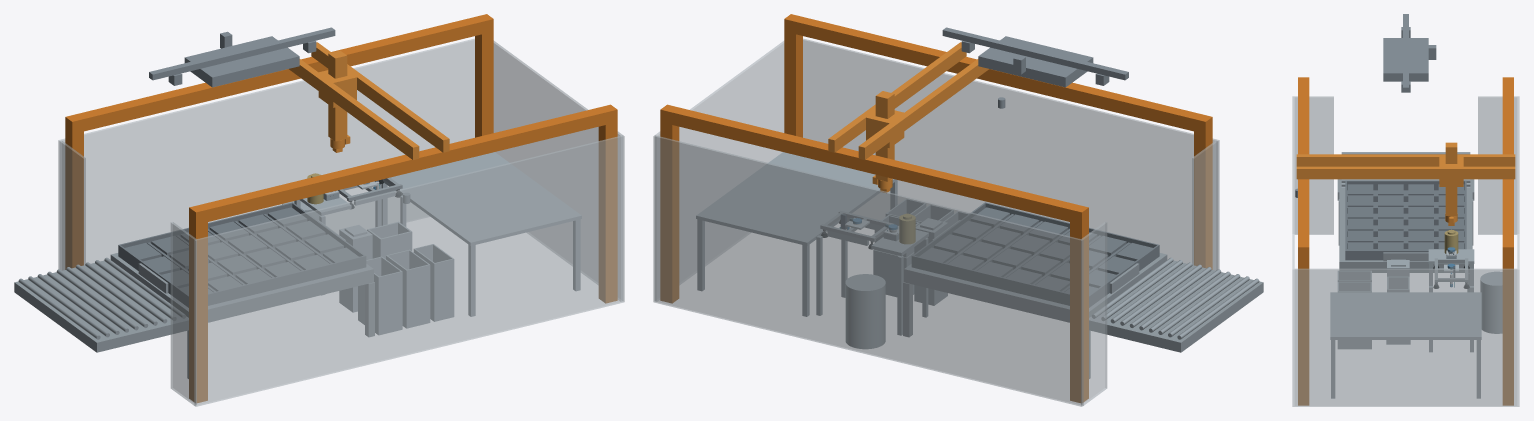
The model's file is LAYOUT_R03_tools_parked.glb.
3 renders of one model, left to right at view 1: azimuth 30°, elevation 25°; view 2: azimuth 150°, elevation 25°; view 3: azimuth 270°, elevation 25°, orthographic. The views are drawn at different scales.
Visible parts, largest first — view 1: 000_fence_safety_fence, 001_fence_safety_fence, 002_fence_safety_fence, 084_station_cover_table, 061_gantry_X_rail_beam, 062_gantry_X_rail_beam, 005_conveyor_intake_conveyor, 003_fence_safety_fence, 016_bench_heating_bench_coil_zone, 057_gantry_column, 059_gantry_column, 004_fence_safety_fence (+18 smaller); view 2: 001_fence_safety_fence, 000_fence_safety_fence, 002_fence_safety_fence, 084_station_cover_table, 062_gantry_X_rail_beam, 061_gantry_X_rail_beam, 005_conveyor_intake_conveyor, 004_fence_safety_fence, 016_bench_heating_bench_coil_zone, 058_gantry_column, 060_gantry_column, 003_fence_safety_fence (+18 smaller); view 3: 002_fence_safety_fence, 084_station_cover_table, 004_fence_safety_fence, 003_fence_safety_fence, 064_moving_Y_bridge, 063_moving_Y_bridge, 061_gantry_X_rail_beam, 062_gantry_X_rail_beam, 016_bench_heating_bench_coil_zone, 093_top_exhaust_hood, 059_gantry_column, 060_gantry_column (+39 smaller).
Part boxes in pixels (left/top/right/bottom): 000_fence_safety_fence: left=194, top=135, right=624, bottom=406; 001_fence_safety_fence: left=58, top=38, right=474, bottom=270; 002_fence_safety_fence: left=493, top=41, right=622, bottom=301; 084_station_cover_table: left=383, top=152, right=581, bottom=245; 061_gantry_X_rail_beam: left=189, top=104, right=617, bottom=224; 062_gantry_X_rail_beam: left=65, top=14, right=493, bottom=134; 005_conveyor_intake_conveyor: left=14, top=260, right=188, bottom=352; 003_fence_safety_fence: left=170, top=222, right=196, bottom=405; 016_bench_heating_bench_coil_zone: left=110, top=253, right=373, bottom=322; 057_gantry_column: left=189, top=220, right=207, bottom=402; 059_gantry_column: left=598, top=122, right=617, bottom=303; 004_fence_safety_fence: left=59, top=140, right=85, bottom=270; 001_fence_safety_fence: left=653, top=135, right=1083, bottom=406; 000_fence_safety_fence: left=803, top=38, right=1219, bottom=270; 002_fence_safety_fence: left=655, top=41, right=784, bottom=301; 084_station_cover_table: left=696, top=152, right=896, bottom=245; 062_gantry_X_rail_beam: left=660, top=104, right=1088, bottom=224; 061_gantry_X_rail_beam: left=784, top=14, right=1212, bottom=134; 005_conveyor_intake_conveyor: left=1089, top=260, right=1263, bottom=352; 004_fence_safety_fence: left=1081, top=222, right=1107, bottom=405; 016_bench_heating_bench_coil_zone: left=904, top=253, right=1167, bottom=322; 058_gantry_column: left=1070, top=220, right=1088, bottom=402; 060_gantry_column: left=660, top=122, right=679, bottom=303; 003_fence_safety_fence: left=1192, top=140, right=1218, bottom=270; 002_fence_safety_fence: left=1294, top=268, right=1517, bottom=406; 084_station_cover_table: left=1330, top=292, right=1481, bottom=339; 004_fence_safety_fence: left=1478, top=96, right=1517, bottom=234; 003_fence_safety_fence: left=1294, top=96, right=1333, bottom=234; 064_moving_Y_bridge: left=1296, top=166, right=1515, bottom=179; 063_moving_Y_bridge: left=1296, top=154, right=1515, bottom=166; 061_gantry_X_rail_beam: left=1298, top=77, right=1309, bottom=257; 062_gantry_X_rail_beam: left=1502, top=77, right=1513, bottom=257; 016_bench_heating_bench_coil_zone: left=1339, top=188, right=1472, bottom=272; 093_top_exhaust_hood: left=1383, top=38, right=1428, bottom=81; 059_gantry_column: left=1298, top=257, right=1309, bottom=405; 060_gantry_column: left=1502, top=257, right=1513, bottom=405.
Bounding box in the file's own units: 6.3 × 3.4 × 3.
